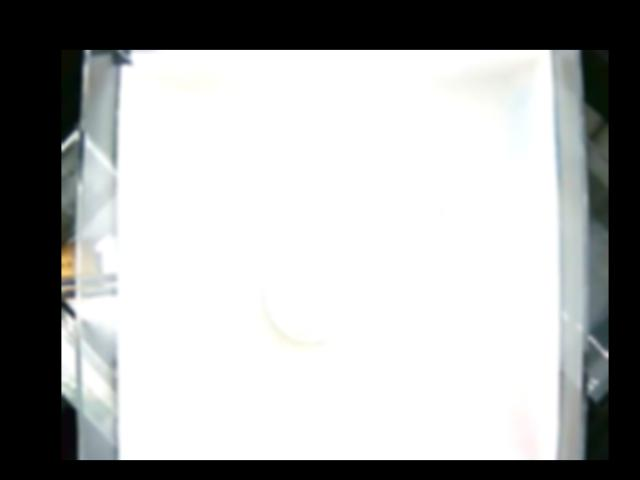Cup: (262, 237, 367, 343)
